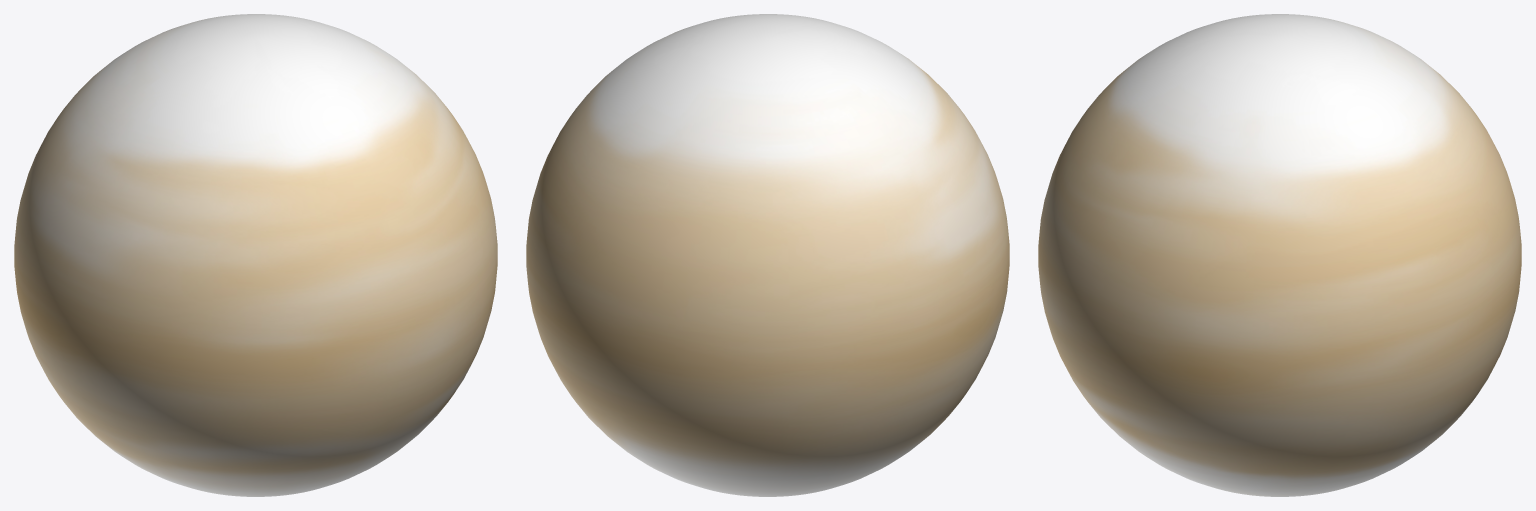
The model's file is Venus.gltf.
The picture shows the model from 3 angles, left to right: view 1: azimuth 30°, elevation 25°; view 2: azimuth 150°, elevation 25°; view 3: azimuth 270°, elevation 25°; orthographic projection.
Parts seen in each view (by area): view 1: cylindrically_mapped_sphere:Mesh; view 2: cylindrically_mapped_sphere:Mesh; view 3: cylindrically_mapped_sphere:Mesh.
Boxes of the visible parts, bbox=[...] form: cylindrically_mapped_sphere:Mesh: bbox=[14, 14, 497, 496]; cylindrically_mapped_sphere:Mesh: bbox=[526, 14, 1009, 496]; cylindrically_mapped_sphere:Mesh: bbox=[1038, 14, 1521, 496].
Bounding box in the file's own units: 1000 × 1000 × 1000.
Materials: 1 (1 with a texture image).
